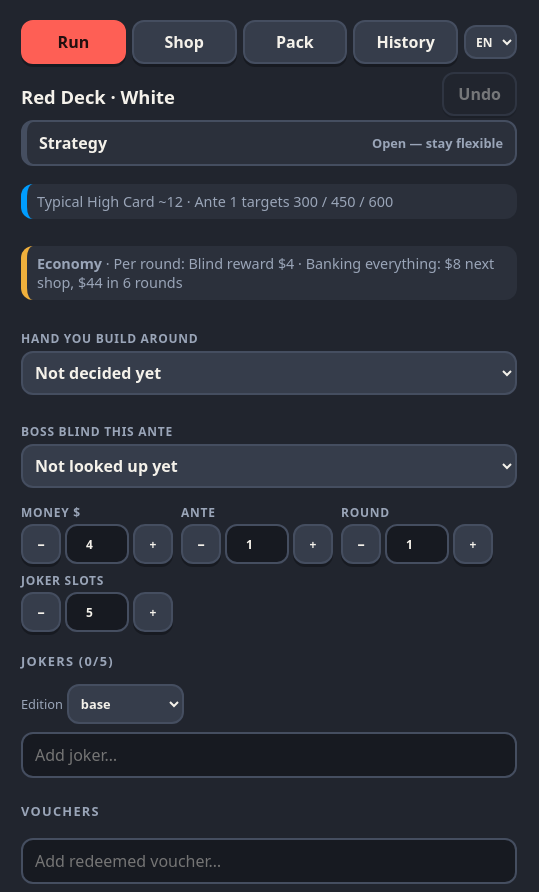
it: sets a Rental shop joker to its fixed $1 price
The width and height of the screenshot is (539, 892).
Step 1. Click the button "Shop" → (184, 42), box [132,20,237,64]
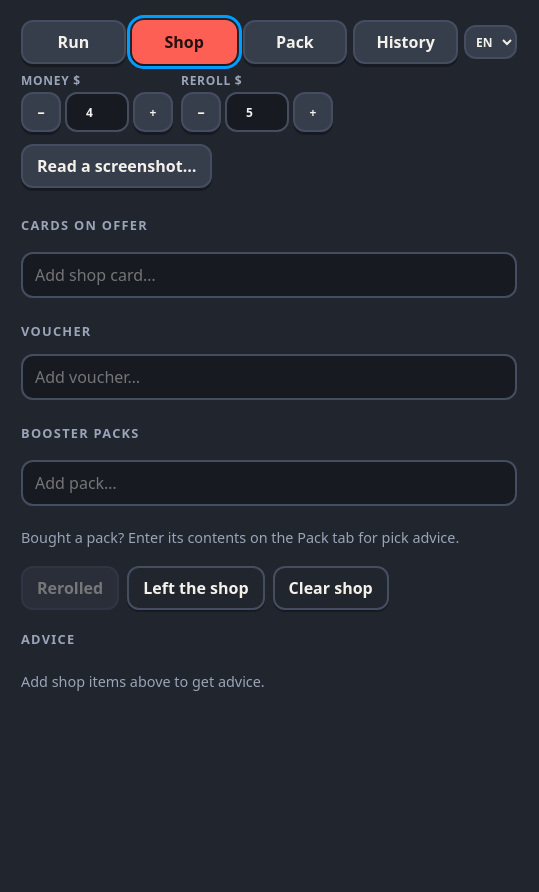
Step 2. Type "blueprint" into the dropdown with placeholder "Add shop card…" → (269, 275), box [21,252,517,298]
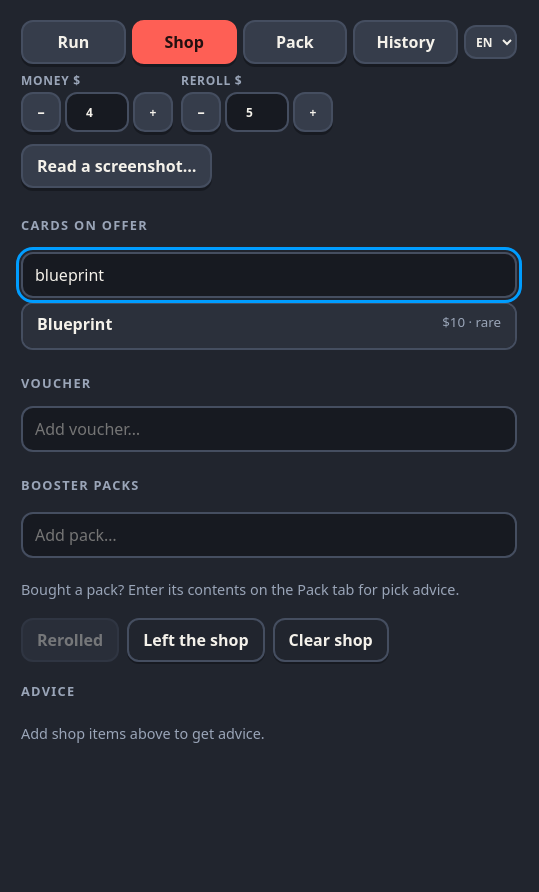
Step 3. Click the button "Blueprint $10 · rare" → (75, 324), box [23,304,515,348]
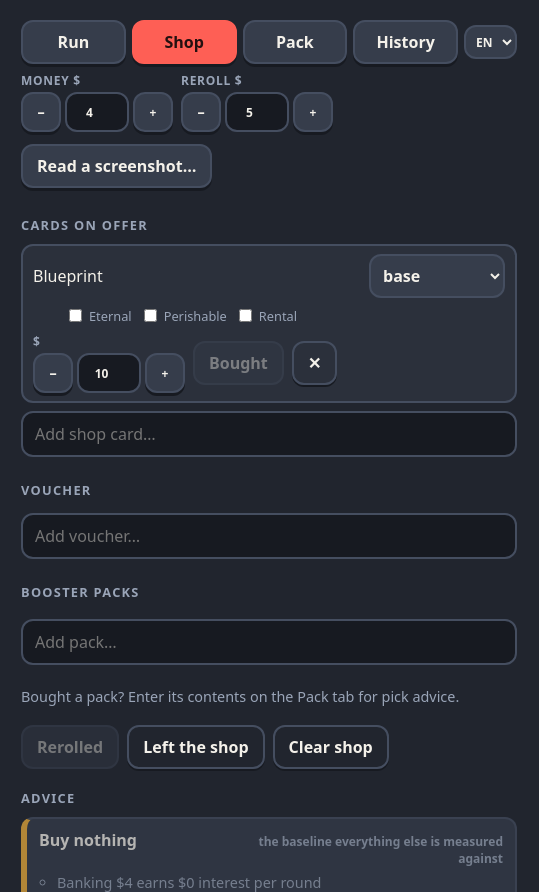
Step 4. Click the checkbox labelled "Rental" → (245, 316), box [239,309,252,322]
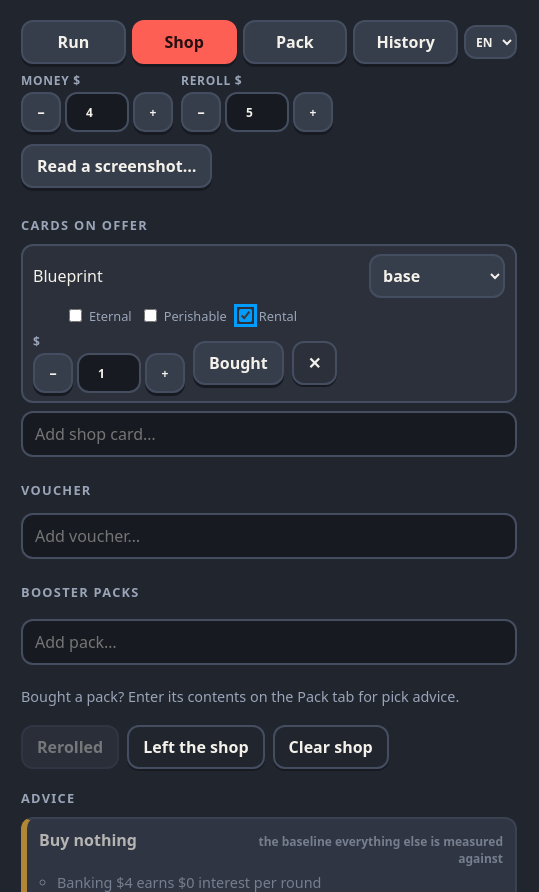
Now the button "Bought" is enabled, box [193,341,284,385]
